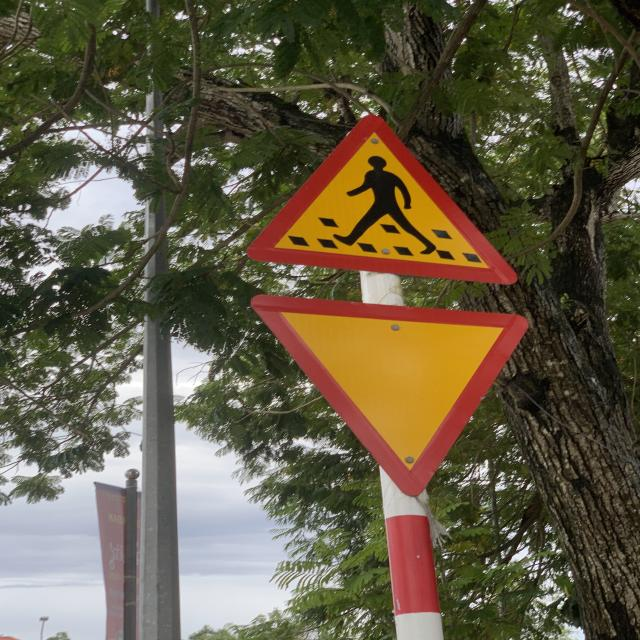Gioi_Han_Toc_Do_25: (249, 114, 515, 280)
